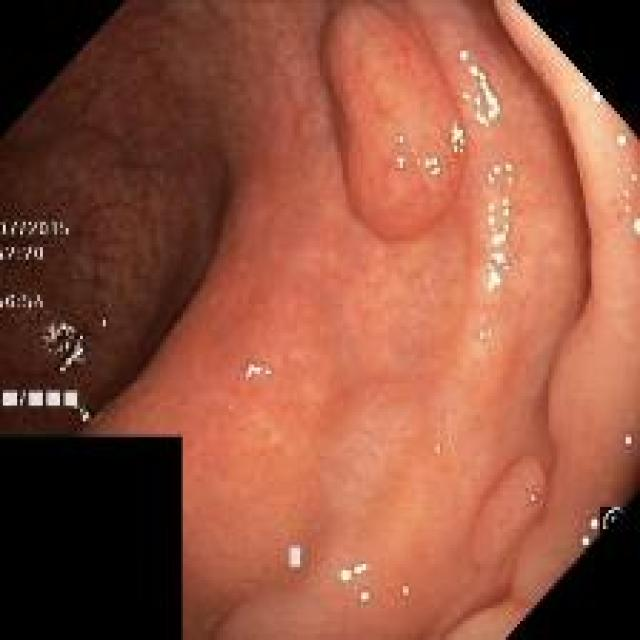Polyps: (324, 6, 464, 240), (471, 459, 546, 568)
